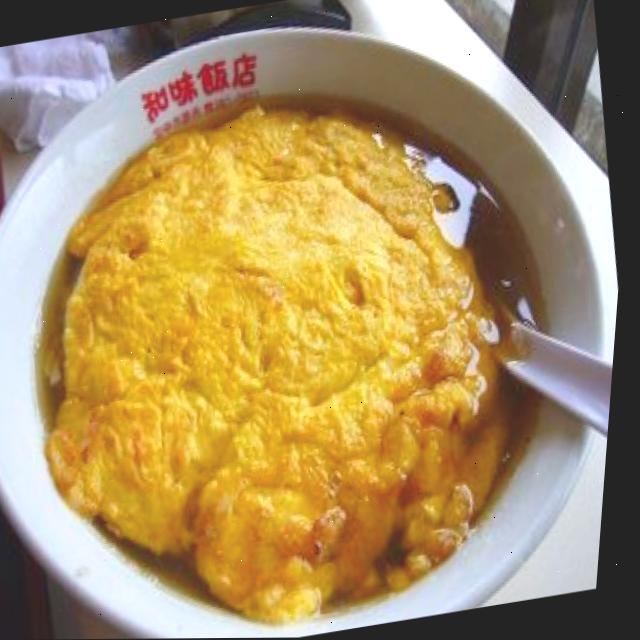面条主食: (1, 35, 612, 640)
